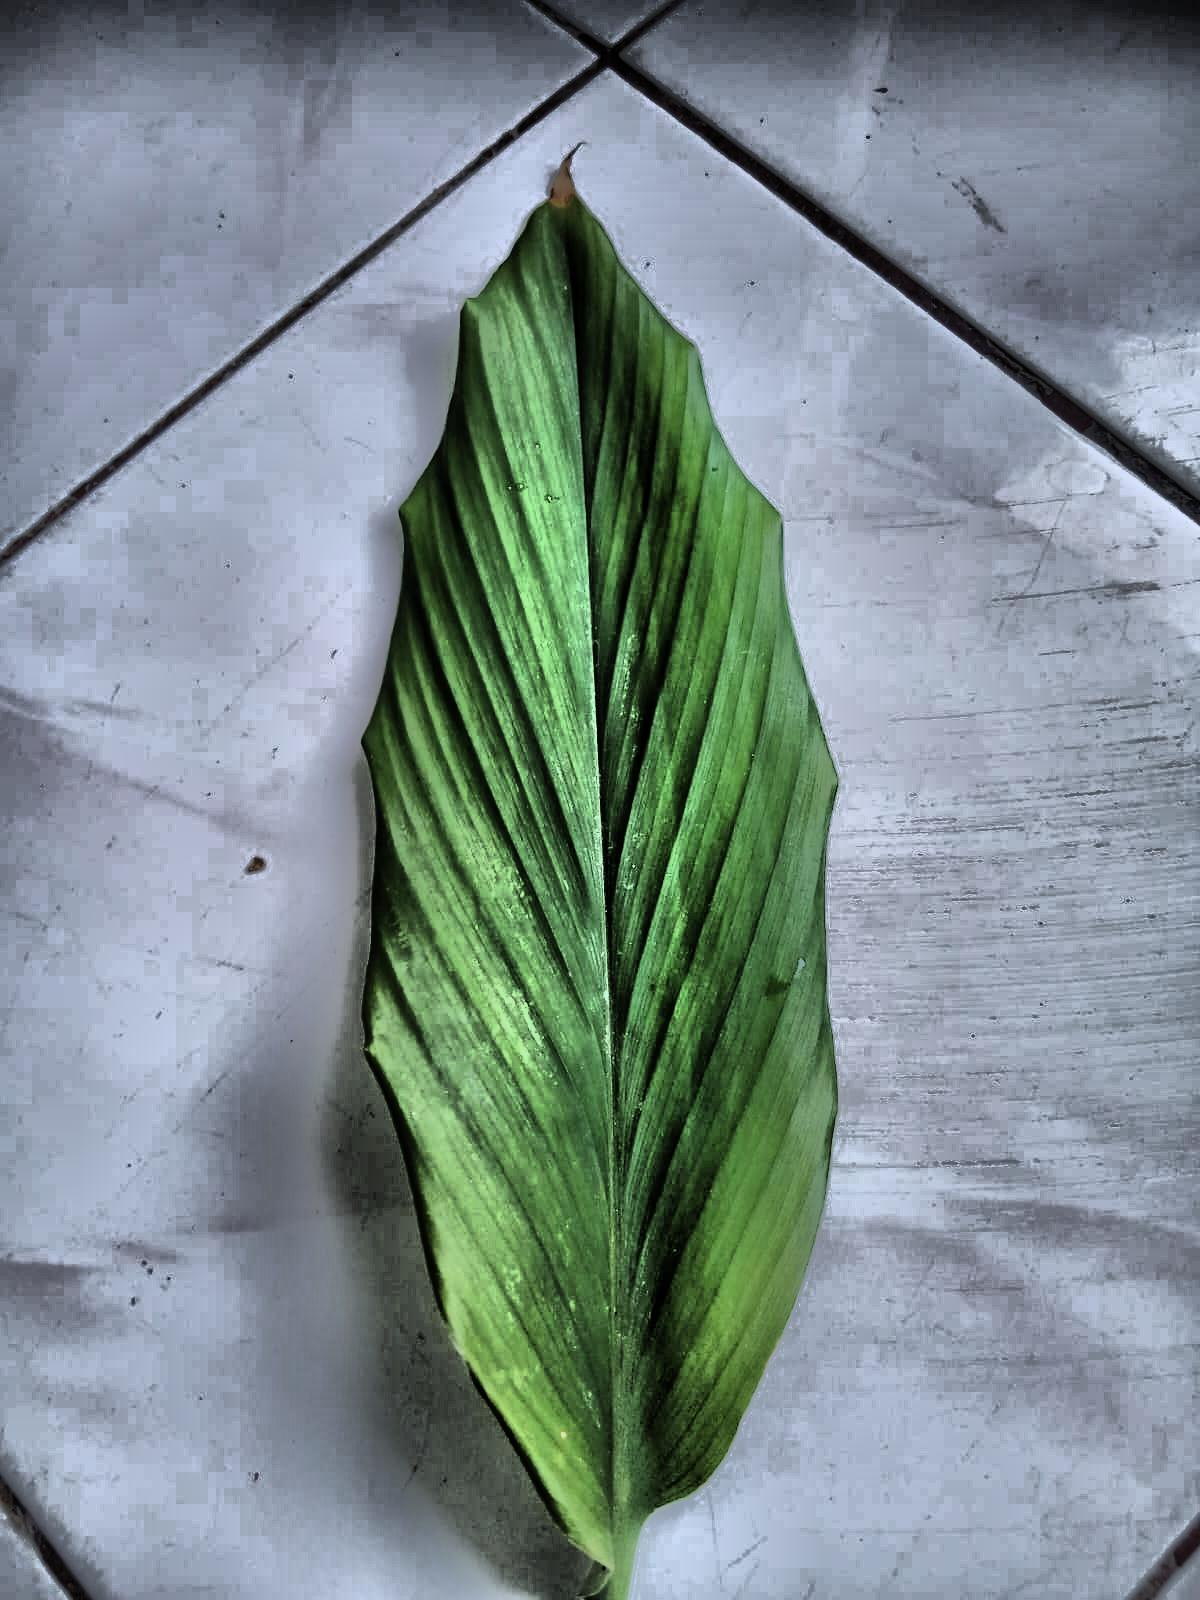daun kunyit: (363, 168, 837, 1599)
